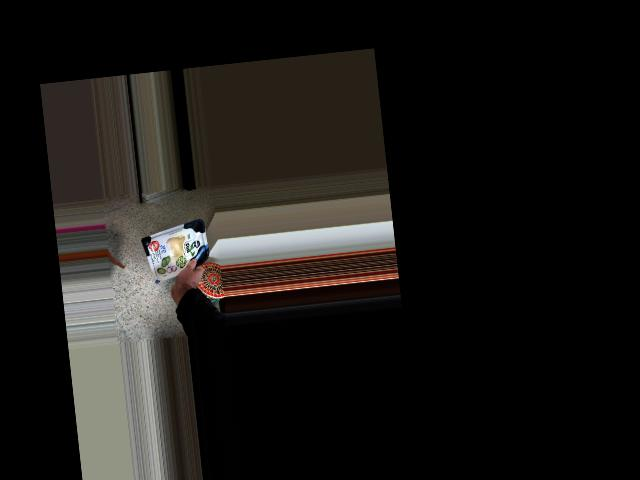cheese: (139, 223, 215, 278)
